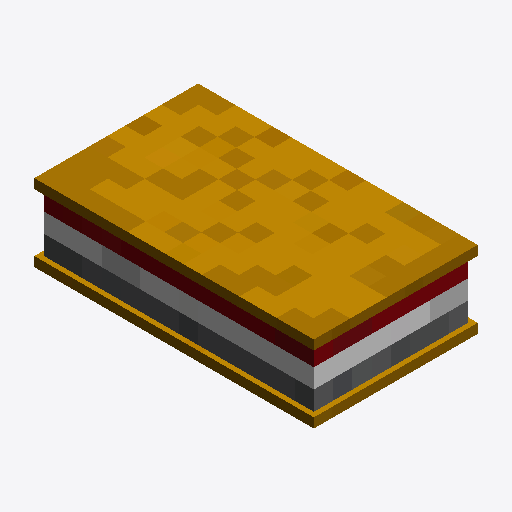
A Minecraft block model of 3 cuboids, rendered isometrically (azimuth 45°, elevation 35.3°) with the resource pack's own textures.
Parts seen in each view (by area): element 2, element 1, element 3.
Part boxes in pixels (left/top/right/bottom): element 2: left=34, top=84, right=477, bottom=349; element 1: left=44, top=195, right=467, bottom=411; element 3: left=34, top=251, right=477, bottom=427.
Size of the model in its own units: 8.5 by 4 by 14.5.